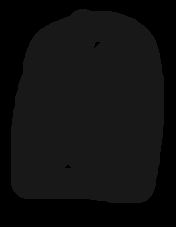fp: (1, 11, 173, 205)
